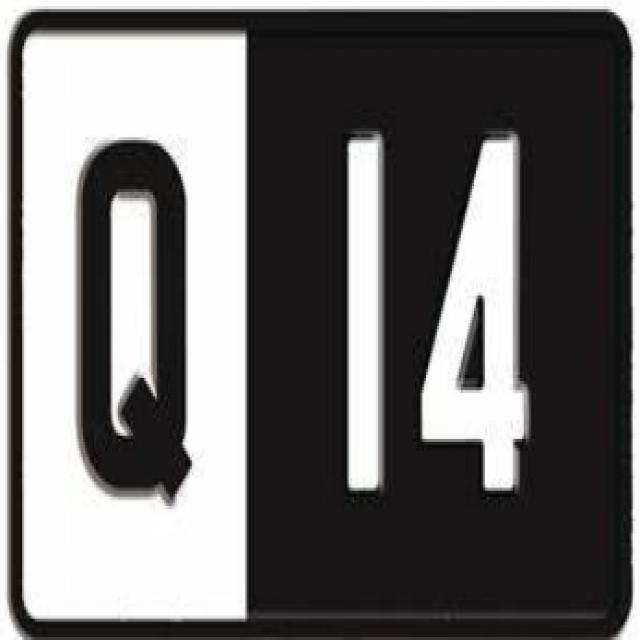4: (410, 107, 540, 507)
I: (334, 108, 394, 516)
Q: (78, 133, 199, 504)
